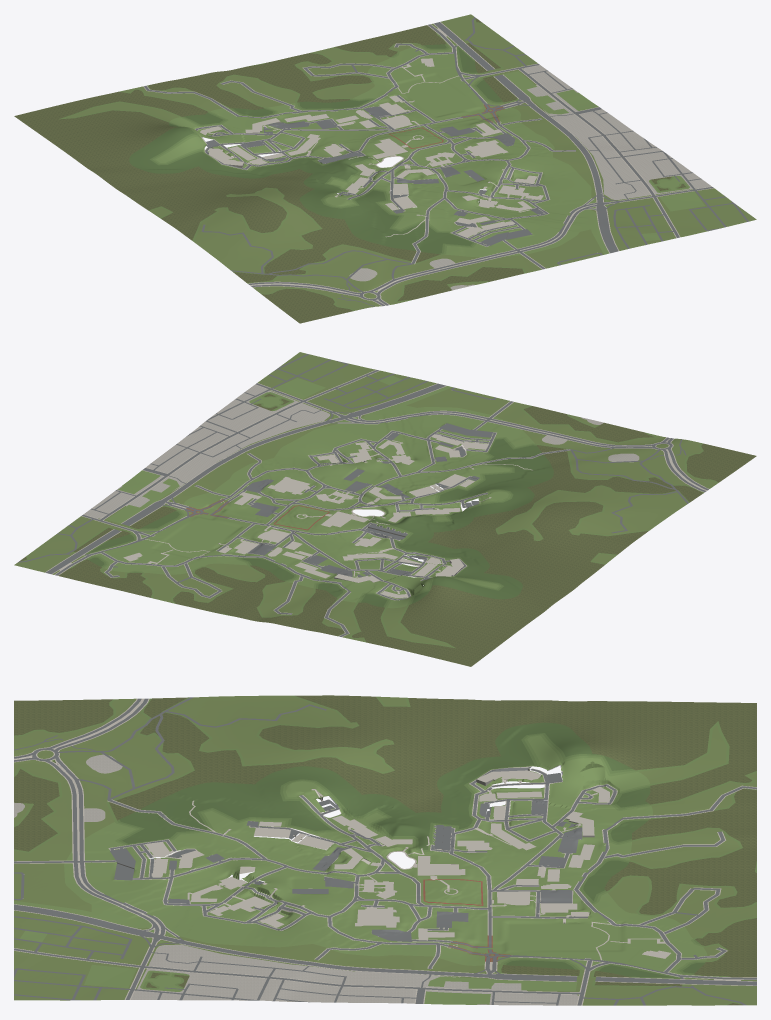
The picture shows the model from 3 angles, top to bottom: view 1: azimuth 30°, elevation 25°; view 2: azimuth 150°, elevation 25°; view 3: azimuth 270°, elevation 25°; orthographic projection. The views are drawn at different scales.
Parts seen in each view (by area): view 1: ground-grass, ground-woodfloor, ground-outgrass, ground-road, ground-walk, ground-forest, ground-urban, ground-meadow, ground-forestedge; view 2: ground-grass, ground-woodfloor, ground-outgrass, ground-road, ground-walk, ground-forest, ground-urban, ground-meadow, ground-forestedge; view 3: ground-grass, ground-woodfloor, ground-outgrass, ground-road, ground-forest, ground-walk, ground-urban, ground-meadow, ground-forestedge, ground-c2-humanities, ground-c5-library, ground-brick.
Boxes of the visible parts, x1=… form: ground-grass: x1=155, y1=44, x2=704, y2=257; ground-woodfloor: x1=14, y1=18, x2=685, y2=323; ground-outgrass: x1=66, y1=14, x2=756, y2=310; ground-road: x1=144, y1=17, x2=748, y2=306; ground-walk: x1=143, y1=22, x2=713, y2=306; ground-forest: x1=129, y1=44, x2=502, y2=253; ground-urban: x1=349, y1=65, x2=711, y2=290; ground-meadow: x1=59, y1=19, x2=688, y2=310; ground-forestedge: x1=150, y1=44, x2=502, y2=254; ground-grass: x1=82, y1=375, x2=534, y2=608; ground-woodfloor: x1=19, y1=394, x2=756, y2=666; ground-outgrass: x1=14, y1=352, x2=716, y2=645; ground-road: x1=18, y1=354, x2=708, y2=636; ground-walk: x1=45, y1=369, x2=709, y2=637; ground-forest: x1=89, y1=439, x2=553, y2=607; ground-urban: x1=84, y1=384, x2=639, y2=518; ground-meadow: x1=18, y1=393, x2=717, y2=648; ground-forestedge: x1=86, y1=438, x2=536, y2=607; ground-grass: x1=14, y1=735, x2=707, y2=1004; ground-woodfloor: x1=14, y1=695, x2=756, y2=1005; ground-outgrass: x1=14, y1=695, x2=756, y2=1005; ground-road: x1=14, y1=697, x2=756, y2=1005; ground-forest: x1=119, y1=722, x2=704, y2=977; ground-walk: x1=14, y1=698, x2=756, y2=1005; ground-urban: x1=14, y1=754, x2=578, y2=1005; ground-meadow: x1=14, y1=695, x2=756, y2=1005; ground-forestedge: x1=117, y1=733, x2=705, y2=978; ground-c2-humanities: x1=355, y1=907, x2=399, y2=927; ground-c5-library: x1=417, y1=856, x2=465, y2=875; ground-brick: x1=423, y1=879, x2=511, y2=961.
Size of the model in its own units: 1200 by 60.52 by 1300.
79 materials, 2 textured.
